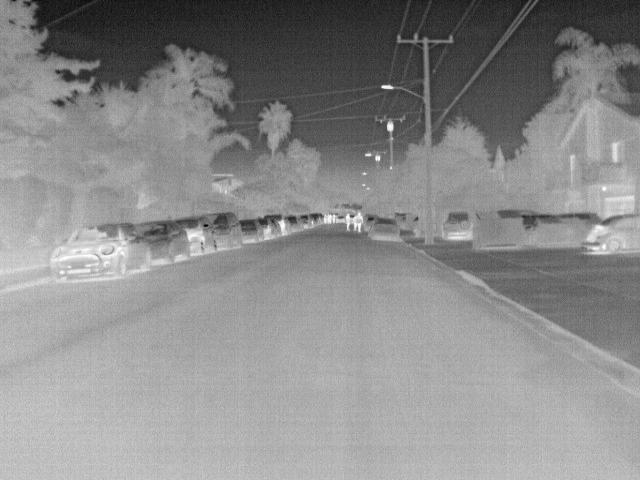car: (45, 220, 154, 282), (138, 222, 191, 266), (584, 211, 638, 252), (172, 215, 218, 255), (192, 213, 243, 247), (437, 209, 477, 243), (366, 219, 403, 242), (234, 220, 260, 246), (262, 213, 285, 232), (257, 218, 273, 241), (284, 214, 303, 232), (266, 216, 282, 237), (299, 213, 313, 229), (334, 214, 346, 225)
person: (352, 211, 363, 232), (345, 212, 352, 231)
